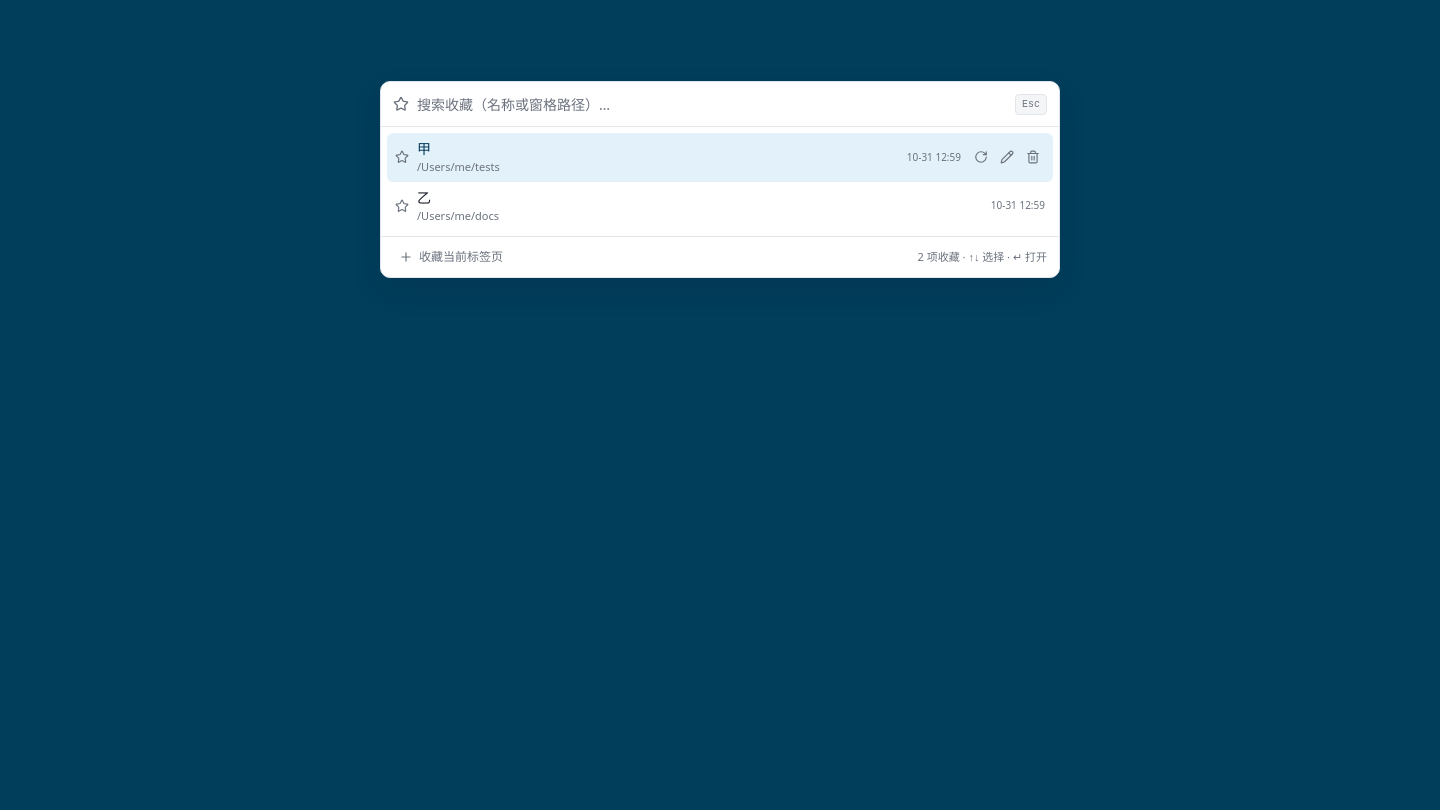
Test: FavoritesPalette 收藏夹面板 › 按窗格路径搜索命中
Type "tests" into the field with placeholder "搜索收藏（名称或窗格路径）…" at (712, 104), box [417,92,1007,116]
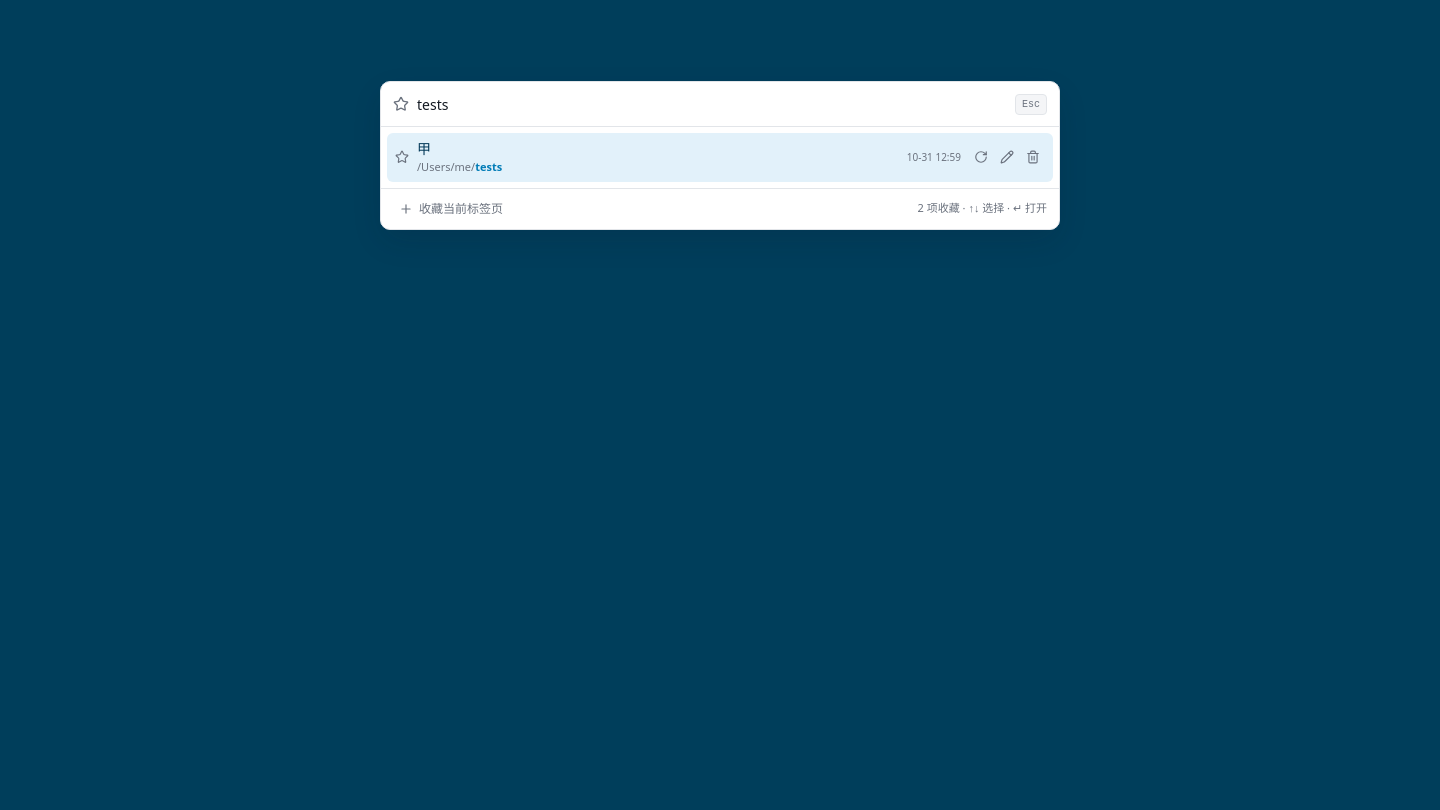
Expected: the text "甲" is shown, [417,139,431,158]
Now the text "乙" is gone
